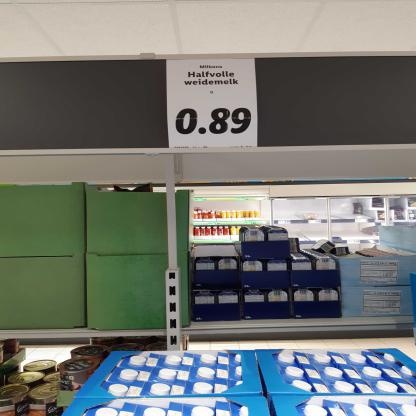prtg: (167, 59, 258, 148)
